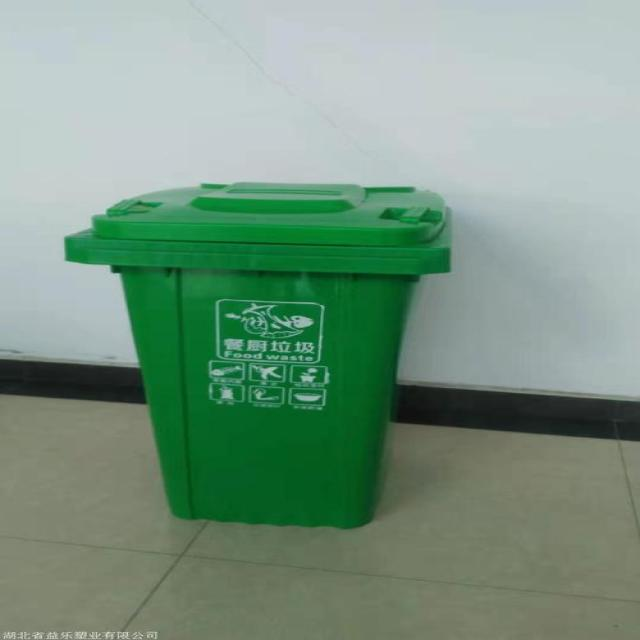garbage_bin: (63, 181, 453, 528)
